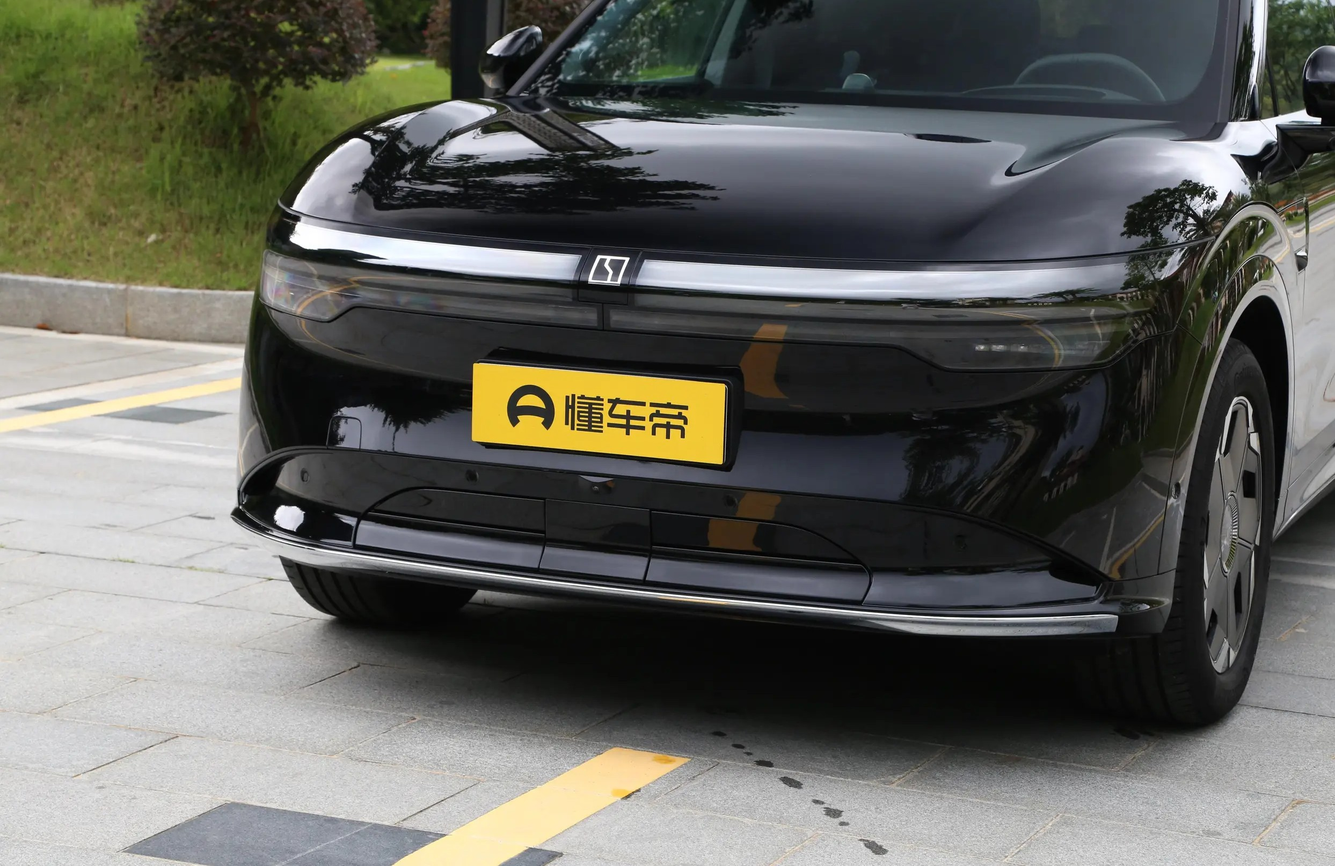ZEEKR: (589, 256, 630, 285)
